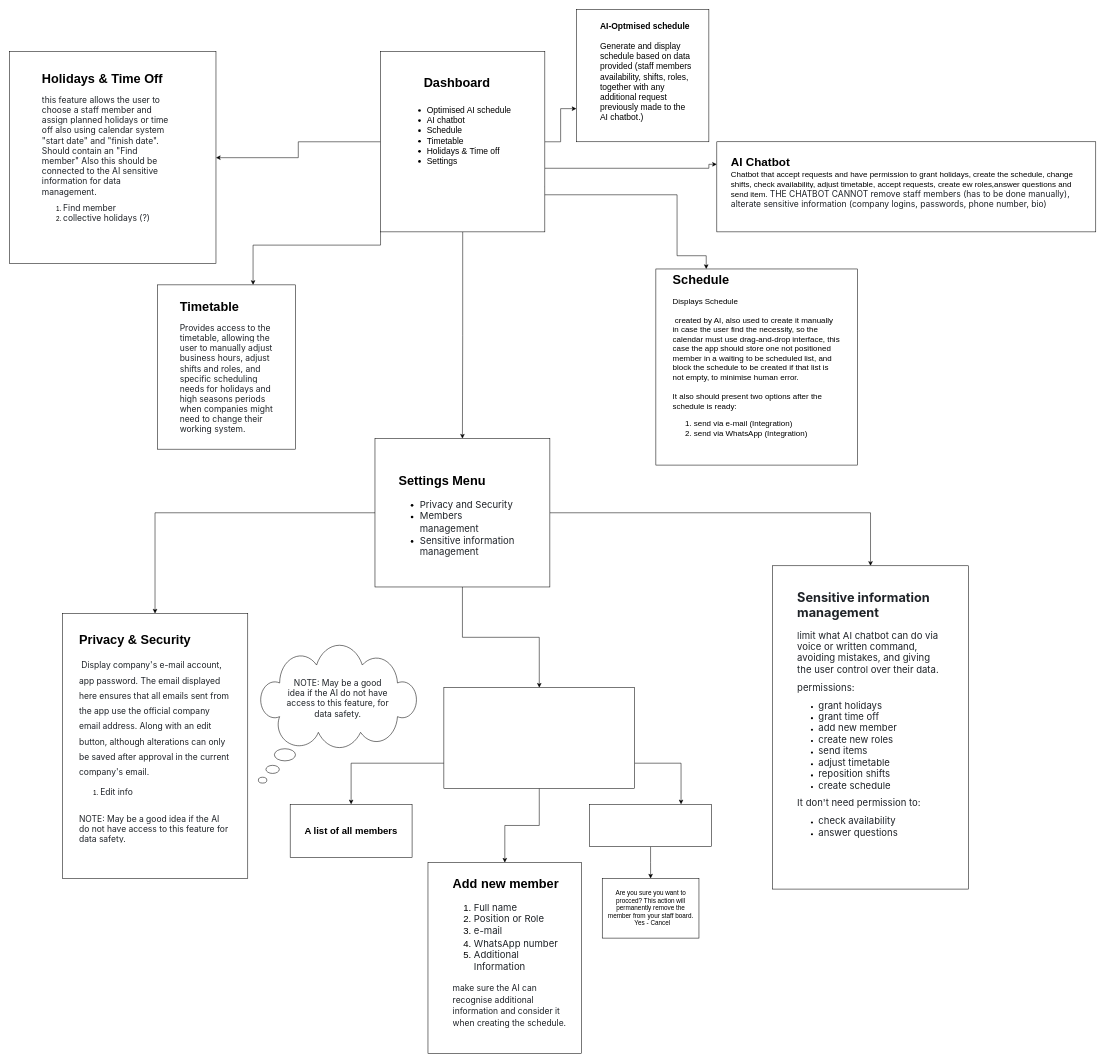
Some shapes in this 1105 by 1063 pixel diagram are drawn without their labels. The centre of each missing label's shape, as x and y in pixels:
"Members menagement All members [list] Add New Member Remove Member" belongs at point (539, 737).
"Remove member: type member full name" belongs at point (650, 825).
